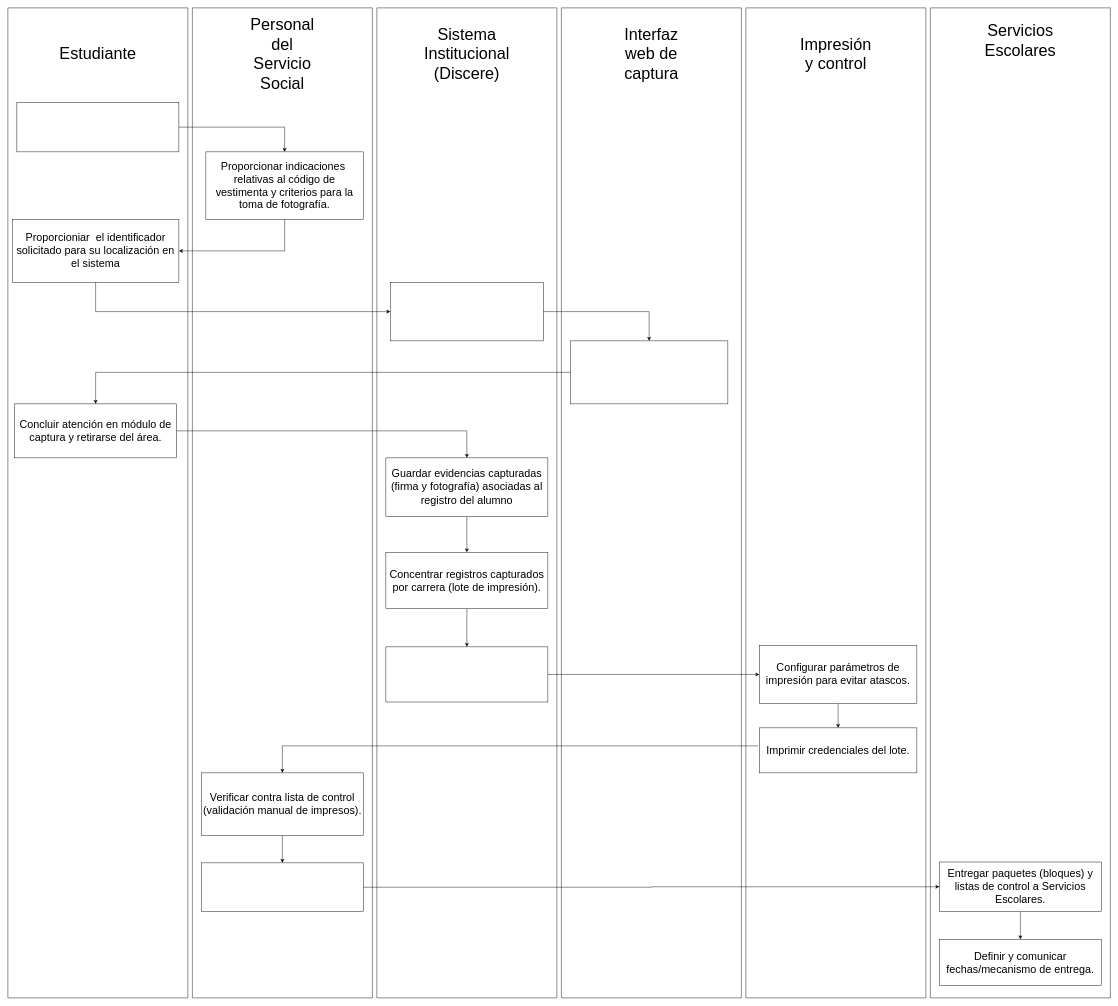
Some shapes in this 1118 by 1006 pixel diagram are drawn without their labels. The shapes that lost their labels are listed below. From the top down, each one's centre as x and y in pixels, then its label:
the point at 97,127: Acudir al área destinada para la credencialización
the point at 466,311: Consulta a la base de datos basado en el identificador proporcionado.
the point at 649,372: Registrar la firma y foto en la interfaz web habilitada para el proceso.
the point at 466,674: Generar archivos PDF por bloques con formato oficial de credencial.
the point at 282,887: Clasificar y empaquetar credenciales por carrera/bloque.
